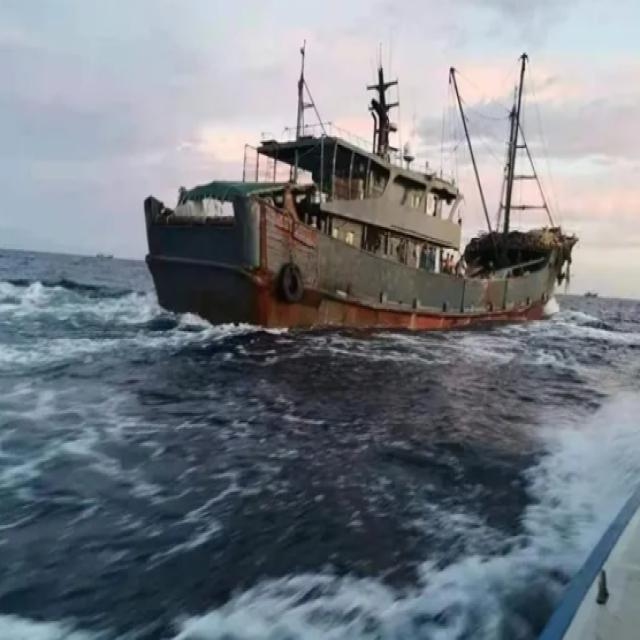fishing boat: (138, 24, 578, 321)
